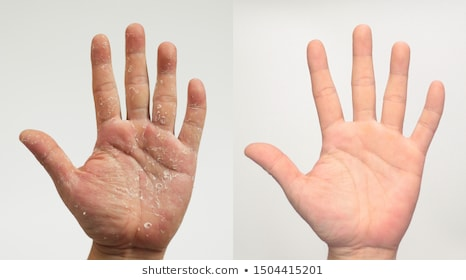Diseased: (73, 45, 195, 231)
